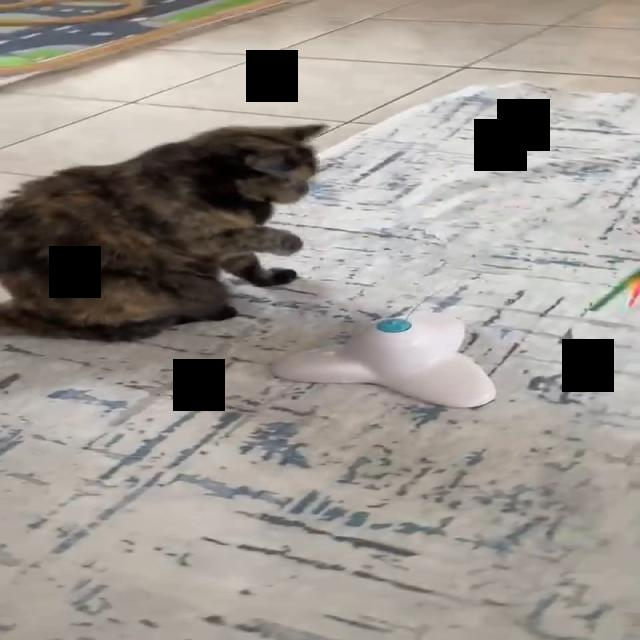authorized: (0, 122, 328, 343)
